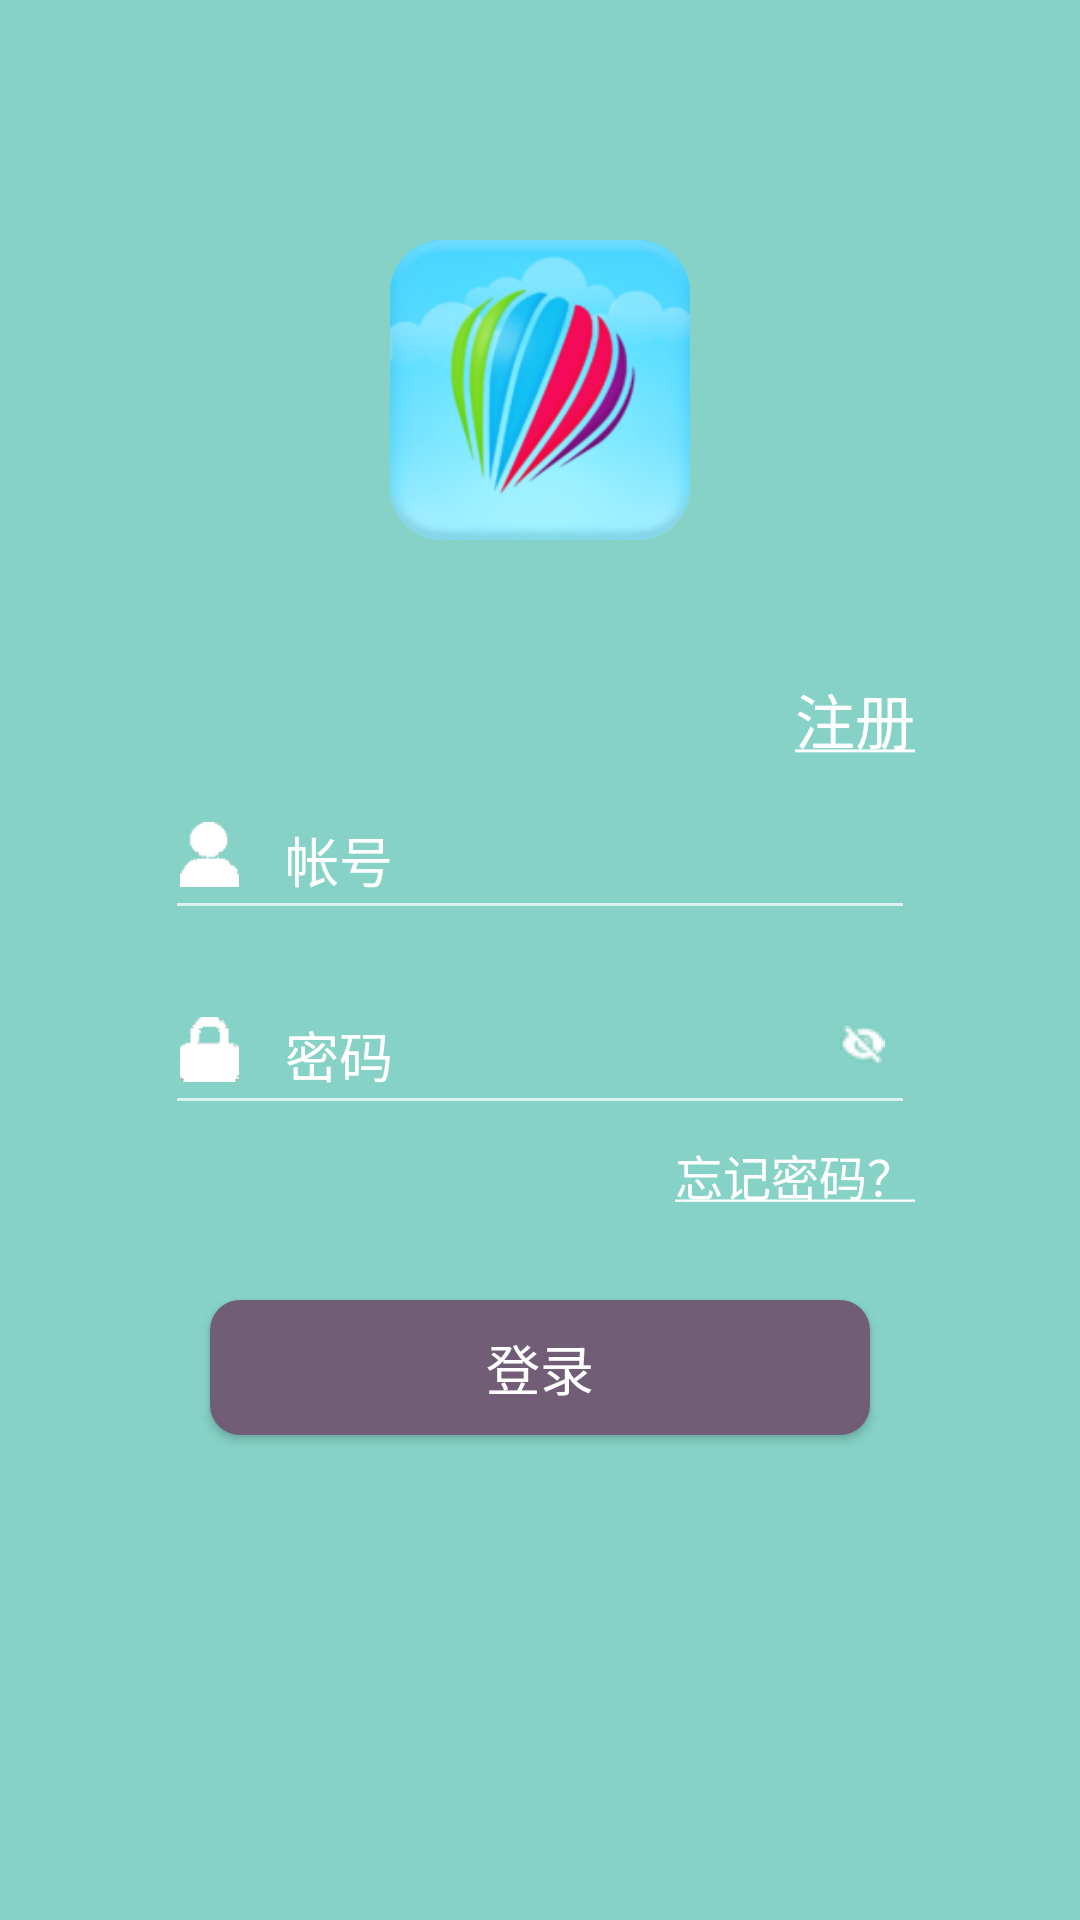

Point at icon controls on the screen. Image size 1080 × 1920, points as point (x, y).
account: point (209, 854)
itravel: point (540, 390)
password: point (209, 1049)
visibility off: point (863, 1044)
